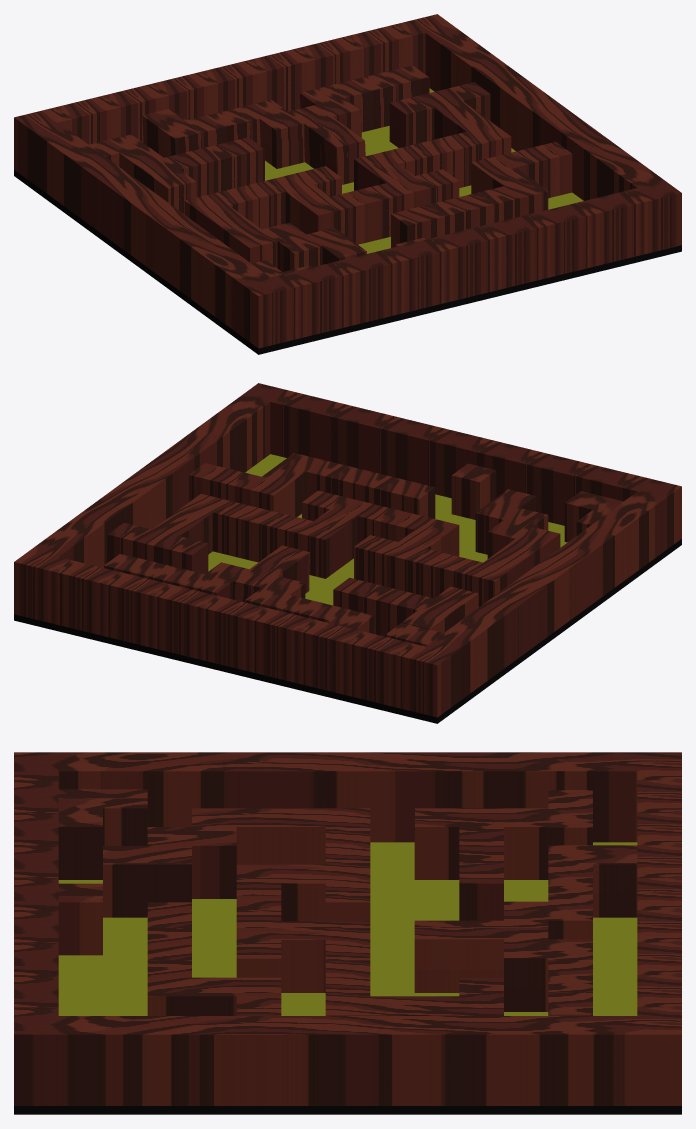
Rendered from laberinto-fácil.fbx.
3 views of the same model, one above another, from view 1: azimuth 30°, elevation 25°; view 2: azimuth 150°, elevation 25°; view 3: azimuth 270°, elevation 25° (orthographic). The views are drawn at different scales.
Parts seen in each view (by area): view 1: FAc1; view 2: FAc1; view 3: FAc1.
Part boxes in pixels (<box>): FAc1: <box>14,14,681,354</box>; FAc1: <box>14,383,681,723</box>; FAc1: <box>14,752,681,1114</box>.
Size of the model in its own units: 140 by 18.49 by 140.
